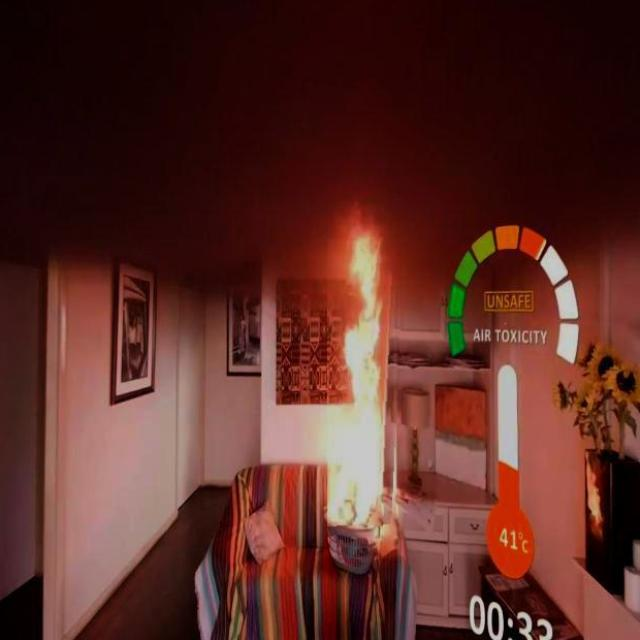smoke: (328, 205, 406, 526)
